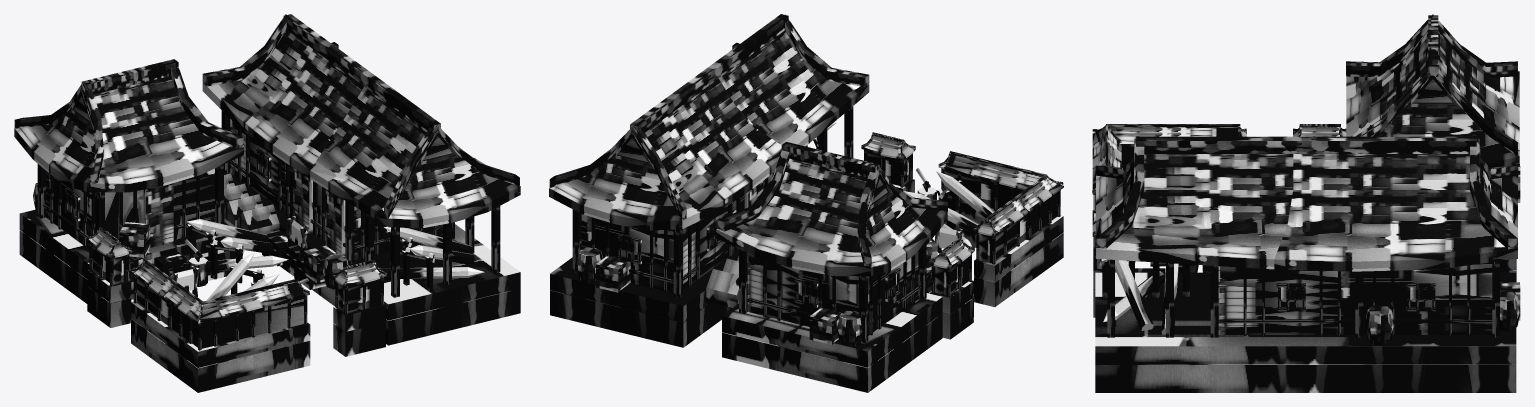
File: arsenal.dae
3 views of the same model, side by side, from view 1: azimuth 30°, elevation 25°; view 2: azimuth 150°, elevation 25°; view 3: azimuth 270°, elevation 25° (orthographic). The views are drawn at different scales.
Parts seen in each view (by area): view 1: gojo_arsenal; view 2: gojo_arsenal; view 3: gojo_arsenal.
Boxes of the visible parts, x1,y1,x2,y2 form: gojo_arsenal: [14, 14, 520, 392]; gojo_arsenal: [549, 14, 1063, 392]; gojo_arsenal: [1092, 14, 1520, 392].
Bounding box in the file's own units: 25.51 × 25.54 × 14.34.
